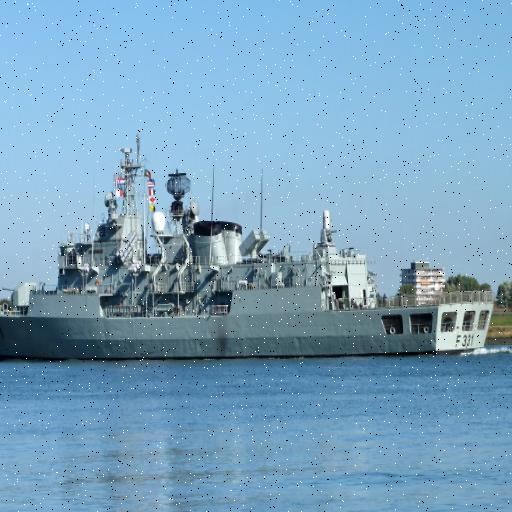Fragata: (1, 135, 497, 359)
